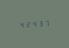four: (18, 21, 23, 28), (30, 20, 35, 27)
seven: (42, 19, 47, 27)
three: (36, 19, 41, 27)
two: (24, 20, 29, 28)
